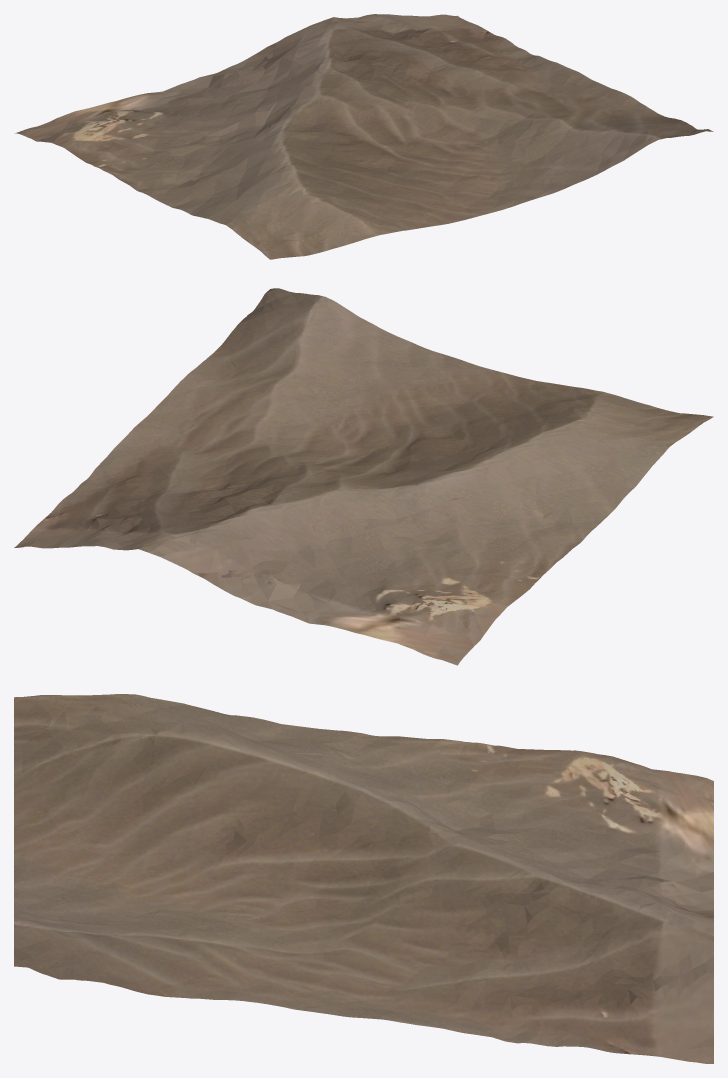
The picture shows the model from 3 angles, top to bottom: view 1: azimuth 30°, elevation 25°; view 2: azimuth 150°, elevation 25°; view 3: azimuth 270°, elevation 25°; orthographic projection. The views are drawn at different scales.
Size of the model in its own units: 1.04 by 0.1946 by 1.04.
3 materials, 3 textured.
